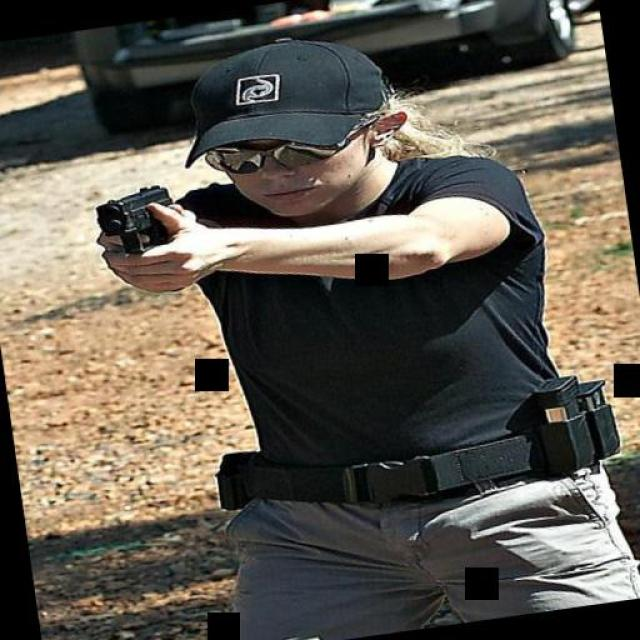gun: (78, 172, 190, 268)
